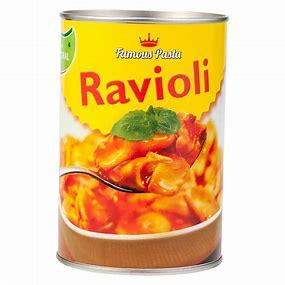metal: (58, 11, 229, 268)
